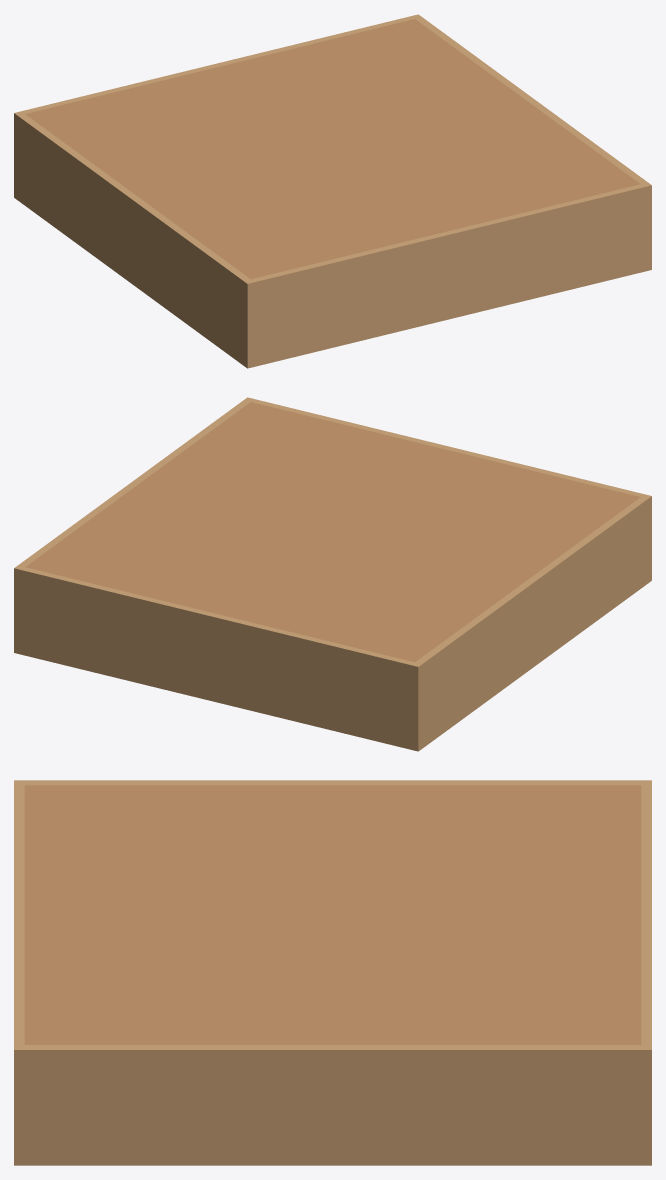
File: ConcrateSlabs_E_4_1.fbx
The picture shows the model from 3 angles, top to bottom: view 1: azimuth 30°, elevation 25°; view 2: azimuth 150°, elevation 25°; view 3: azimuth 270°, elevation 25°; orthographic projection. The views are drawn at different scales.
Visible parts, largest first — view 1: ConcrateSlabs_E_4_1; view 2: ConcrateSlabs_E_4_1; view 3: ConcrateSlabs_E_4_1.
Boxes of the visible parts, x1,y1,x2,y2 form: ConcrateSlabs_E_4_1: (14,14,651,368); ConcrateSlabs_E_4_1: (14,397,651,751); ConcrateSlabs_E_4_1: (14,780,651,1165).
Bounding box in the file's own units: 200 × 40 × 200.
